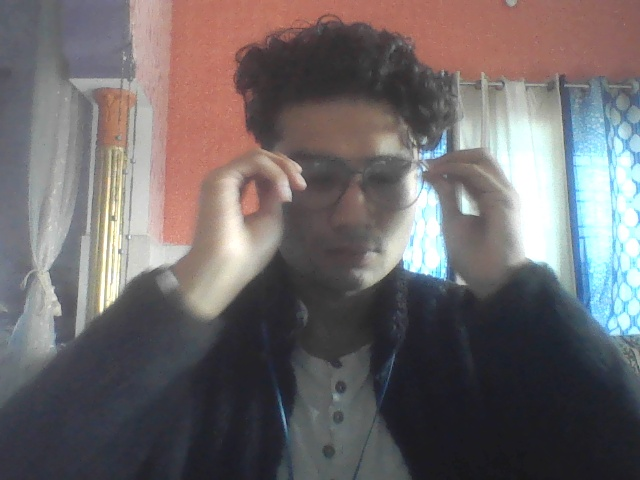real: (243, 32, 437, 307)
